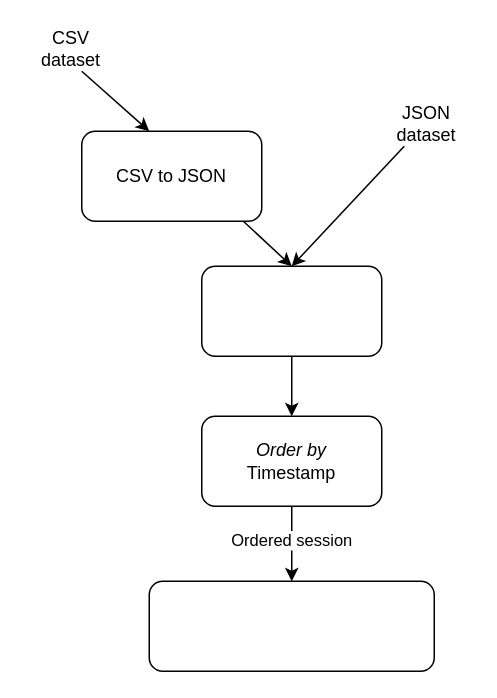
Image size: 497x698. Some labels were removed from this diagram. Here are the shapes that lost their labels. From the top down, the box of each, then its label:
(200, 265, 382, 356): Group by Session id
(148, 580, 434, 671): Separate into Subsession - dedicated output
